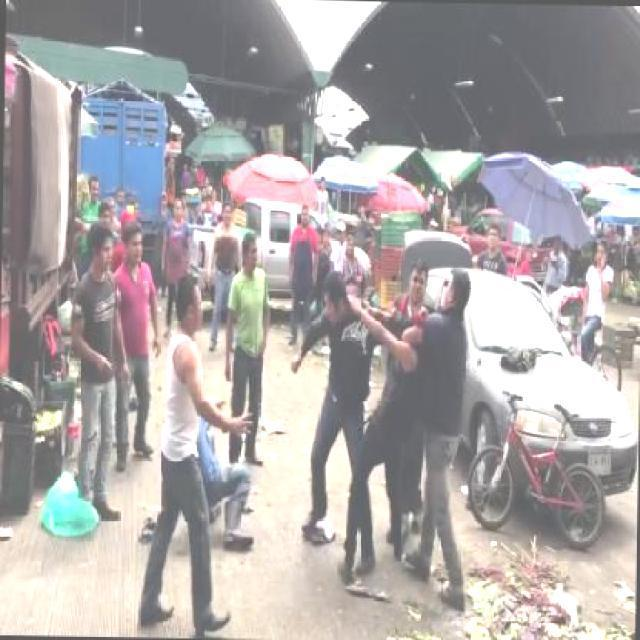fight: (288, 270, 438, 430)
